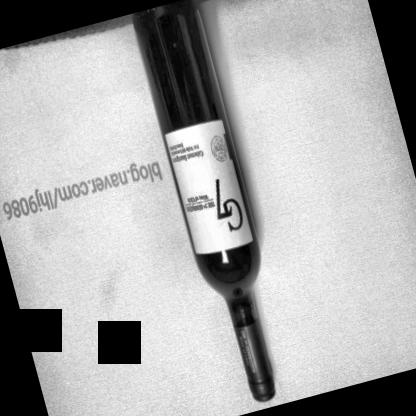G7: (162, 115, 254, 258)
